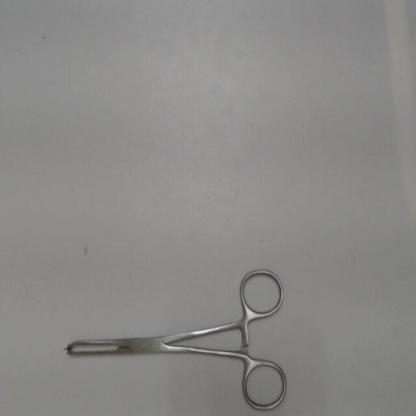Allis Tissue Forceps: (55, 261, 294, 414)
